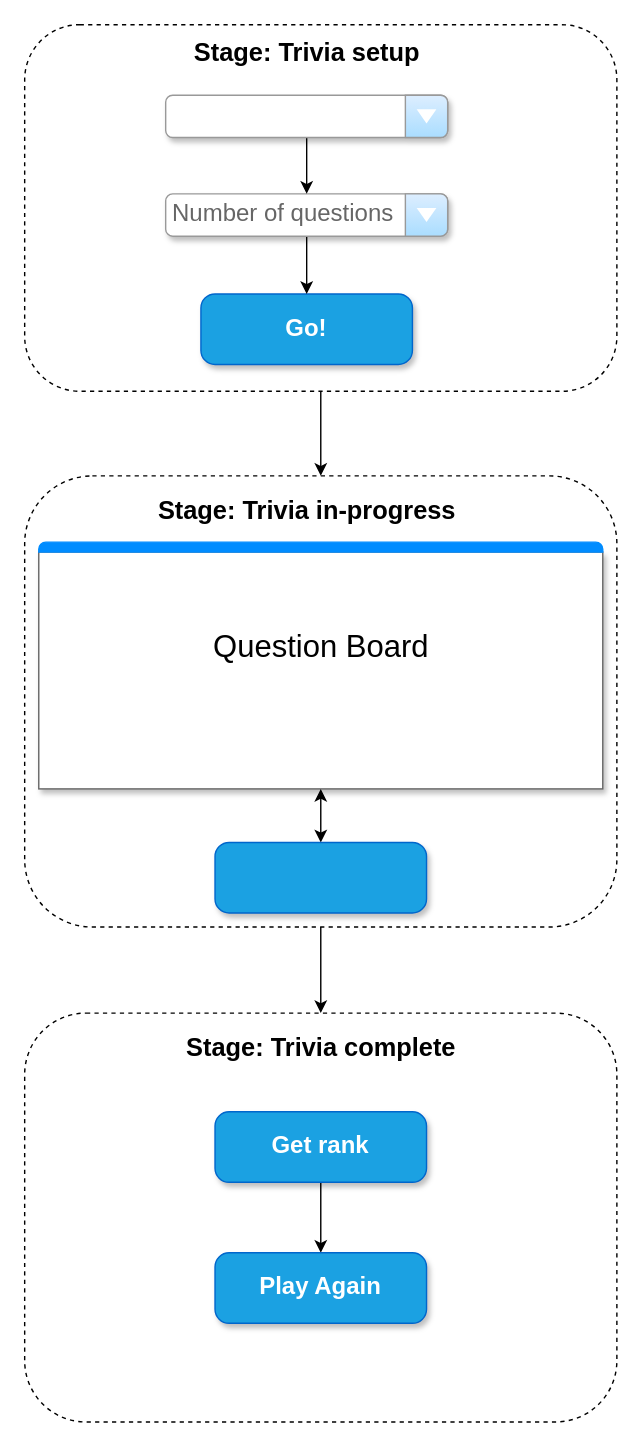
Image size: 642x1447. Some labels were removed from this diagram. Each missing label, with the centre of its shape:
Character: the point at 307,117
Next Question: the point at 321,879
